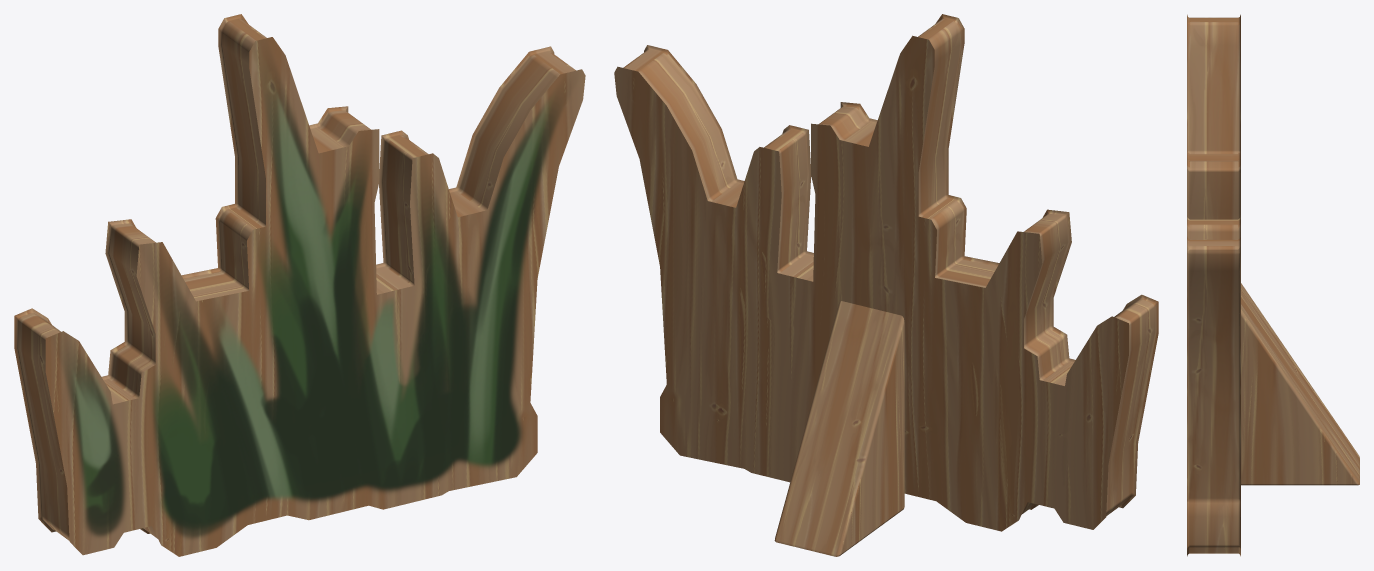
Rendered from grass_small.glb.
3 renders of one model, left to right at view 1: azimuth 30°, elevation 25°; view 2: azimuth 150°, elevation 25°; view 3: azimuth 270°, elevation 25°, orthographic. The views are drawn at different scales.
Parts seen in each view (by area): view 1: grass_small_Block; view 2: grass_small_Block, grass_small_RearBrace; view 3: grass_small_Block, grass_small_RearBrace.
Part boxes in pixels (x1,y1,x2,y2): grass_small_Block: [14, 14, 585, 556]; grass_small_Block: [614, 14, 1158, 531]; grass_small_RearBrace: [774, 301, 904, 556]; grass_small_Block: [1187, 14, 1240, 556]; grass_small_RearBrace: [1241, 283, 1359, 485].
Size of the model in its own units: 0.6758 by 0.5978 by 0.2166.
Materials: 1 (1 with a texture image).
